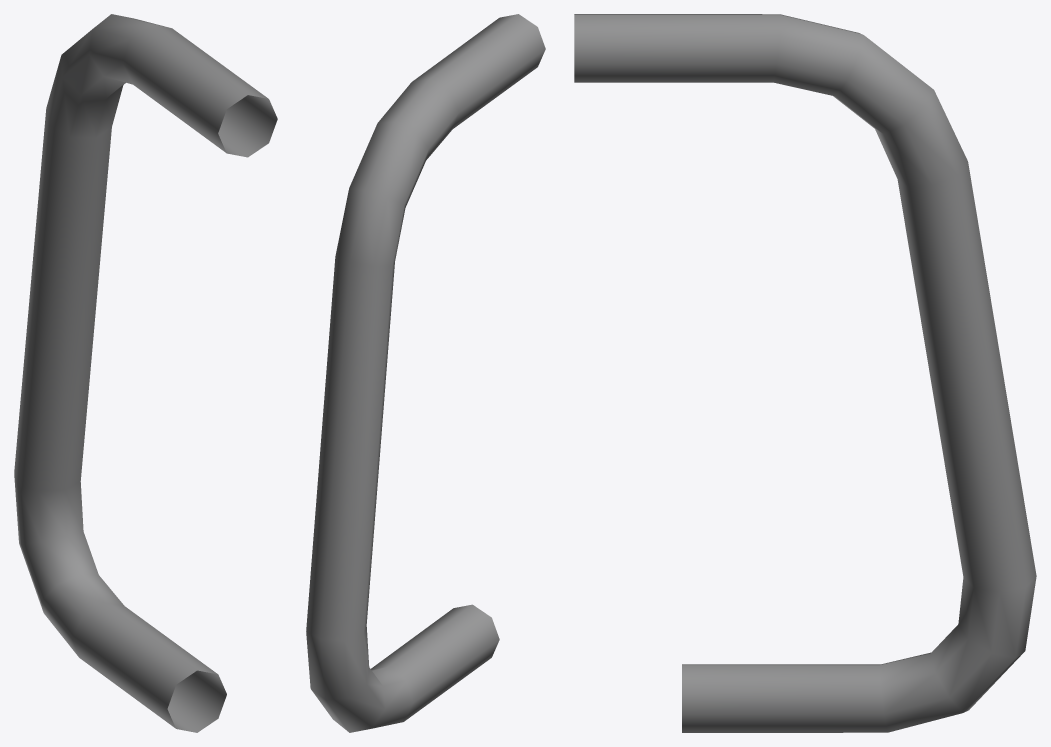
The model's file is Armchair_013_Part_02.fbx.
3 views of the same model, side by side, from view 1: azimuth 30°, elevation 25°; view 2: azimuth 150°, elevation 25°; view 3: azimuth 270°, elevation 25° (orthographic). The views are drawn at different scales.
Parts seen in each view (by area): view 1: Armchair_013_Part_02; view 2: Armchair_013_Part_02; view 3: Armchair_013_Part_02.
Boxes of the visible parts, <box> form: Armchair_013_Part_02: <box>14,14,277,732</box>; Armchair_013_Part_02: <box>306,14,545,732</box>; Armchair_013_Part_02: <box>574,14,1036,732</box>.
Bounding box in the file's own units: 4.2 × 26.52 × 45.36.
